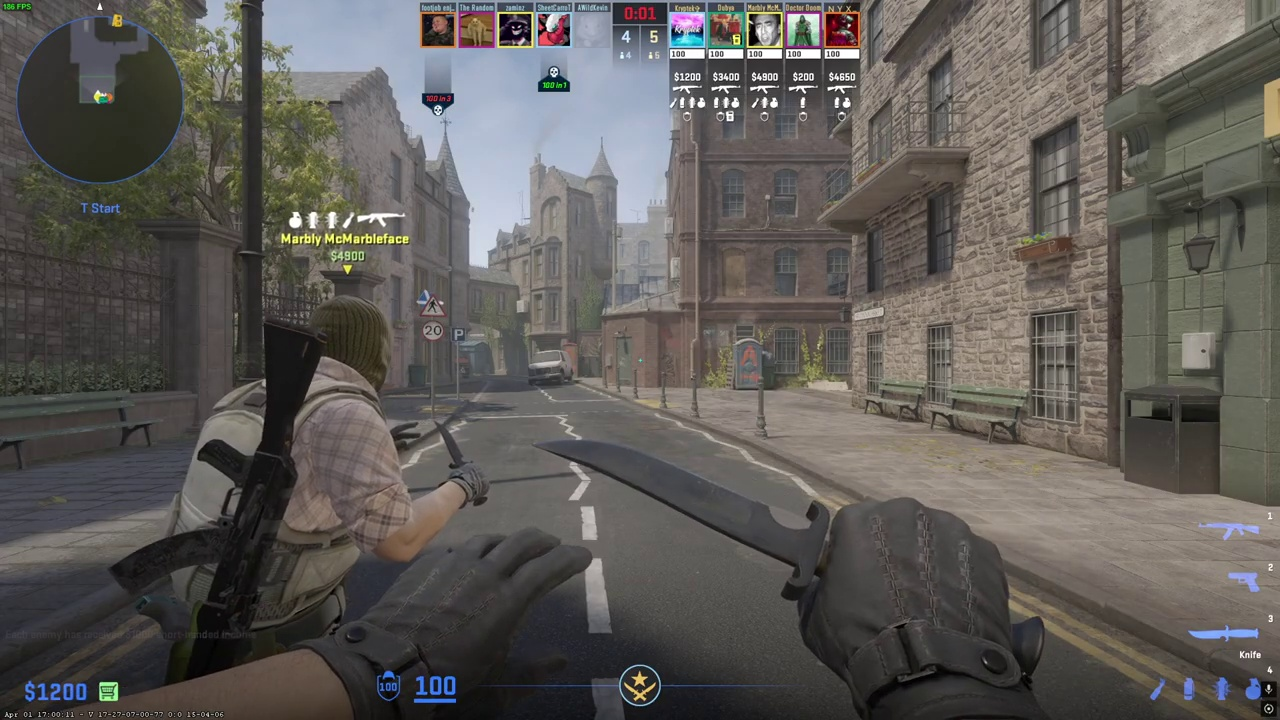Terrorist: (165, 295, 451, 668)
